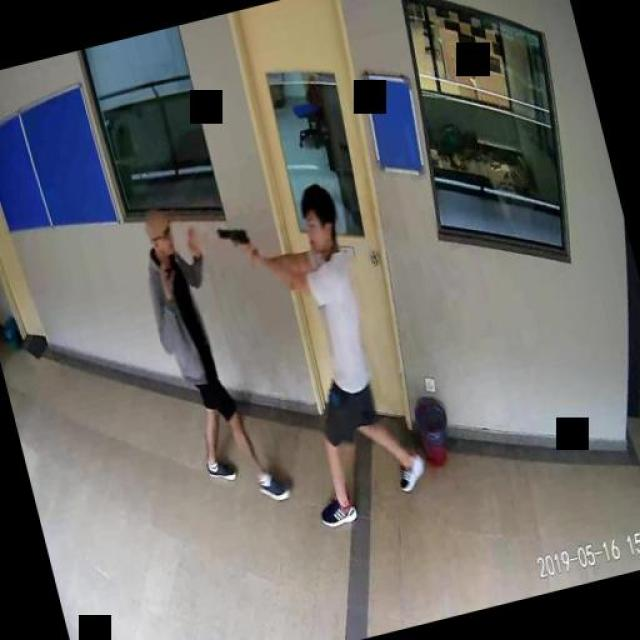gun: (215, 218, 254, 268)
